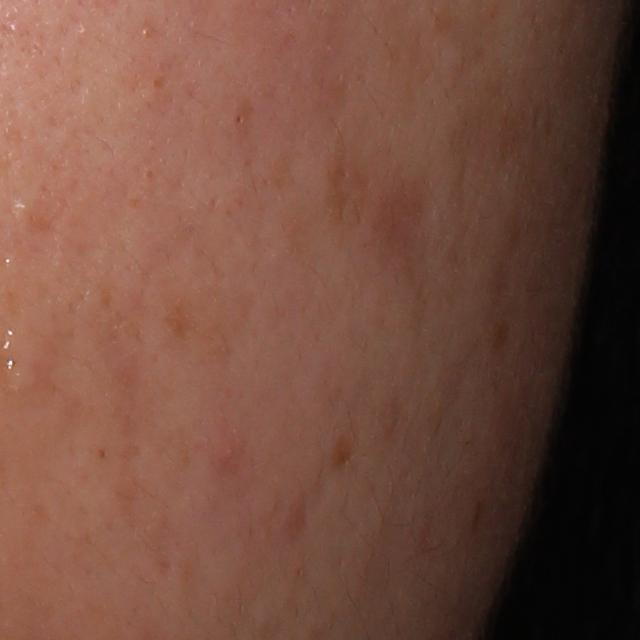comedo: (231, 111, 245, 128)
